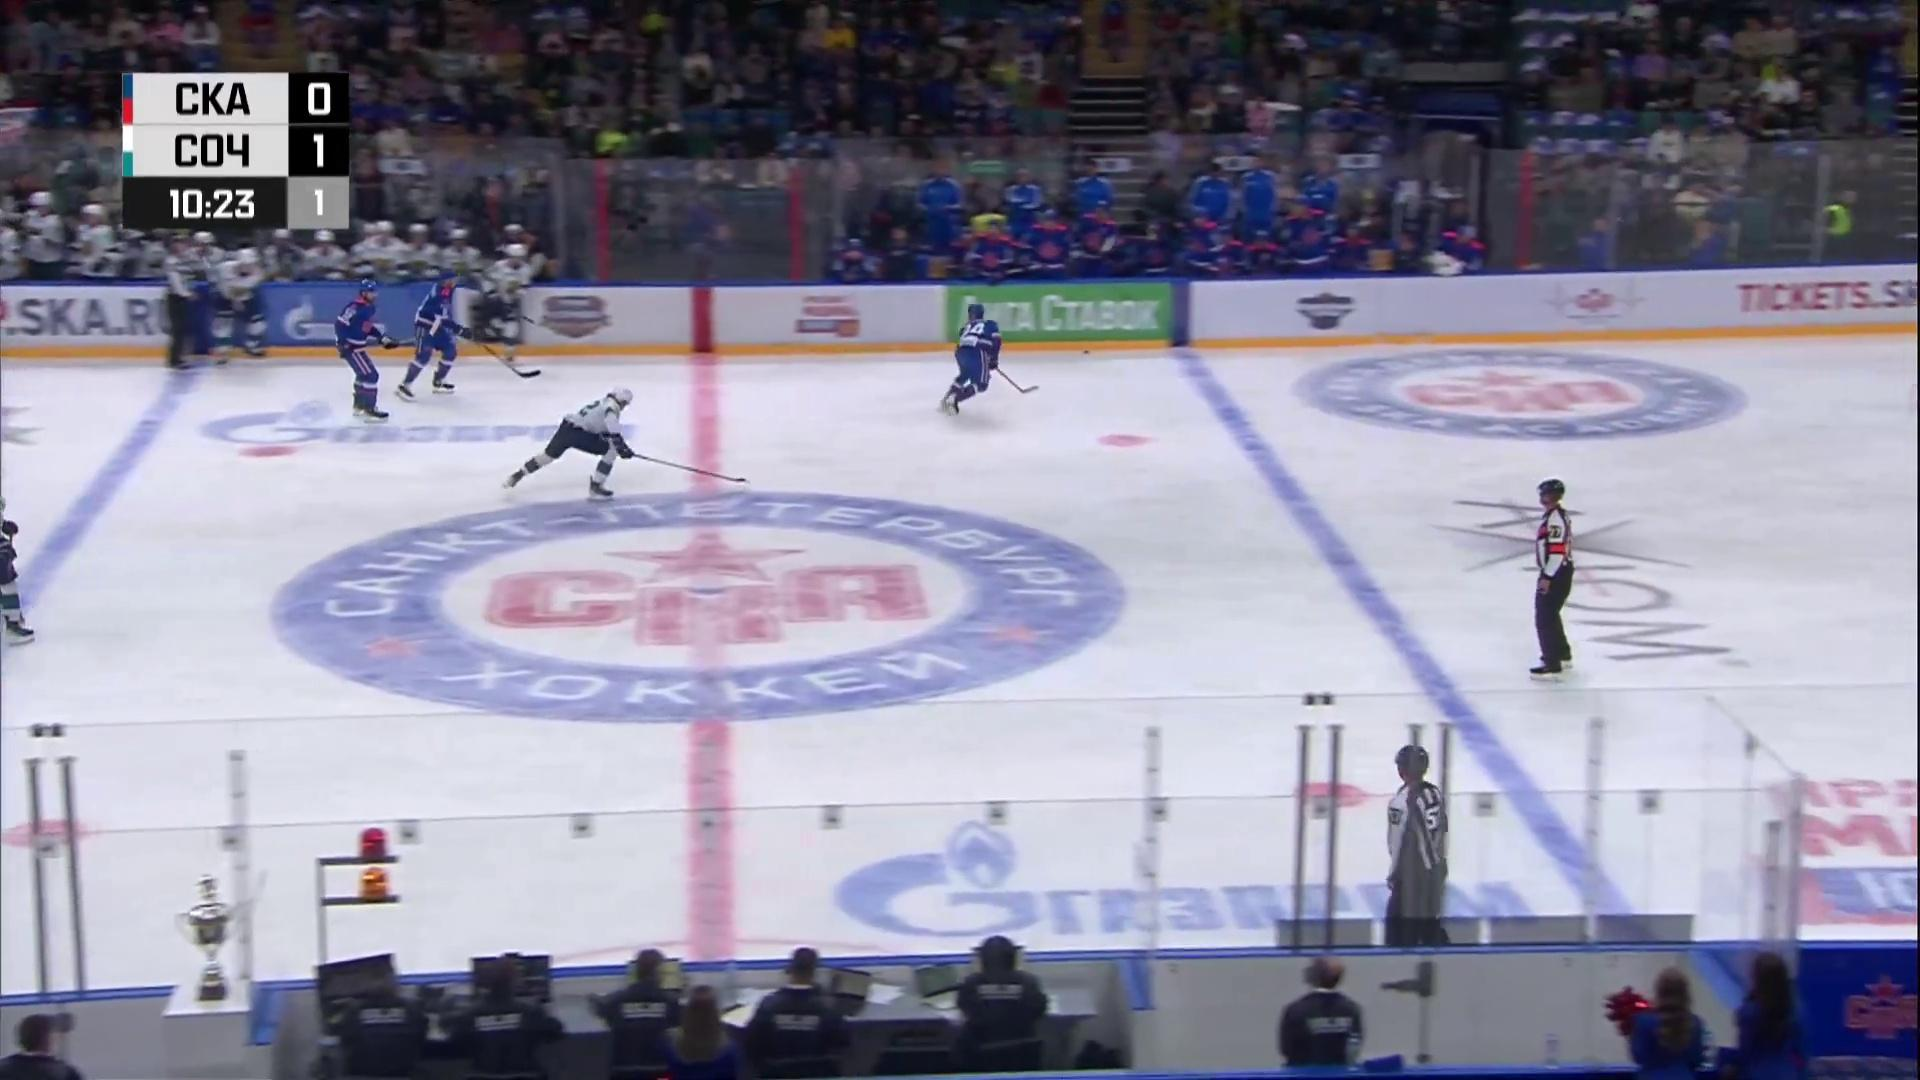ball: (1083, 351, 1089, 355)
